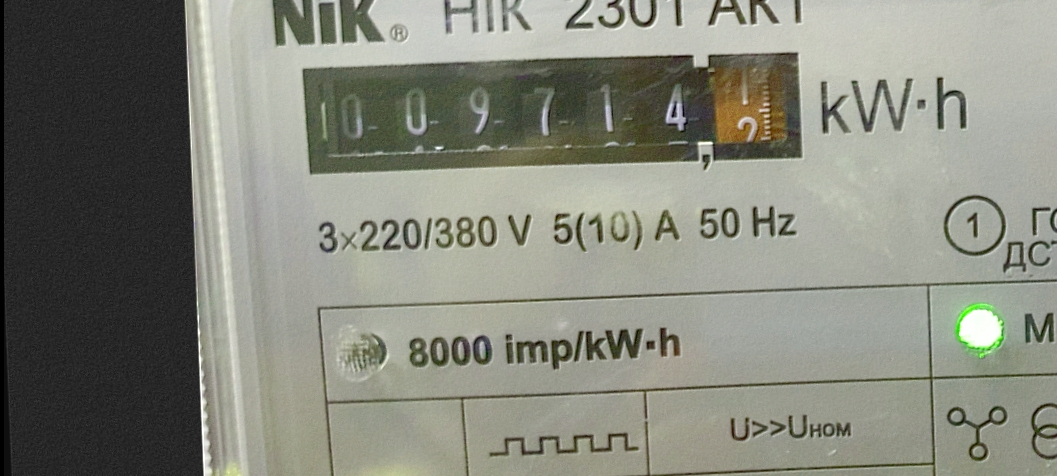0: (337, 89, 368, 144), (402, 83, 431, 138)
1: (596, 79, 621, 135), (736, 64, 753, 107)
2: (736, 112, 761, 143)
4: (661, 80, 691, 135)
7: (532, 84, 560, 139)
9: (464, 83, 495, 137)
screen: (288, 33, 821, 196)
